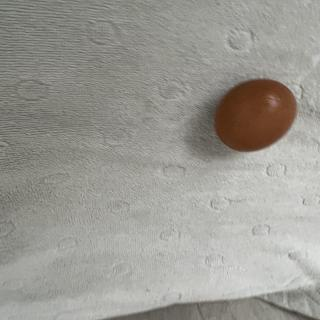Telur: (212, 78, 302, 156)
